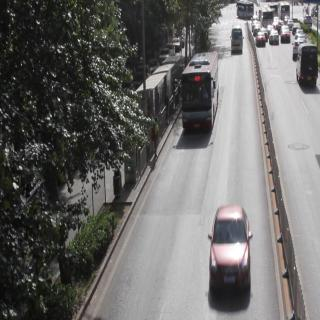BigCar: (184, 52, 222, 134), (296, 47, 319, 94), (234, 0, 257, 24), (260, 3, 276, 33), (231, 26, 245, 54), (277, 0, 292, 25)
Car: (209, 180, 252, 291), (254, 27, 269, 49), (293, 35, 306, 57), (266, 28, 279, 47), (279, 24, 291, 43), (303, 15, 314, 28)
